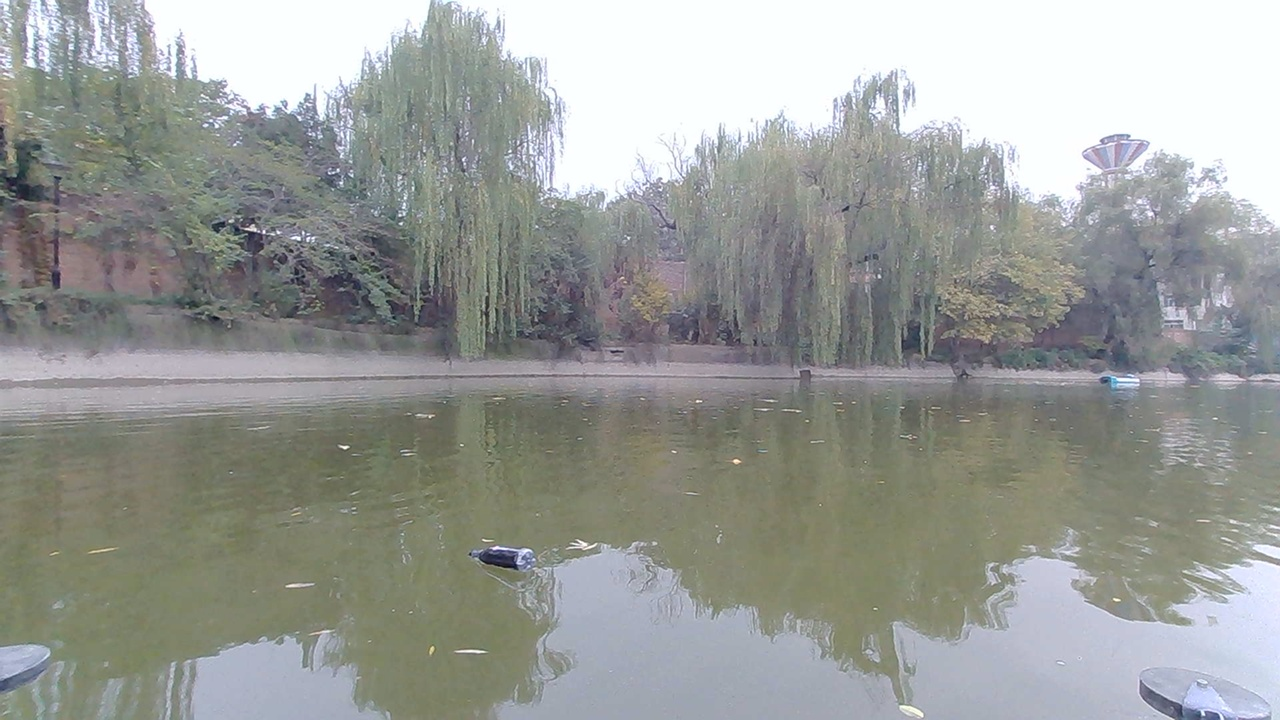bottle: (483, 545, 537, 579)
